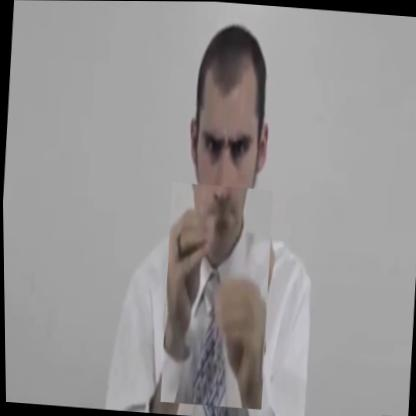Fix: (157, 182, 275, 410)
